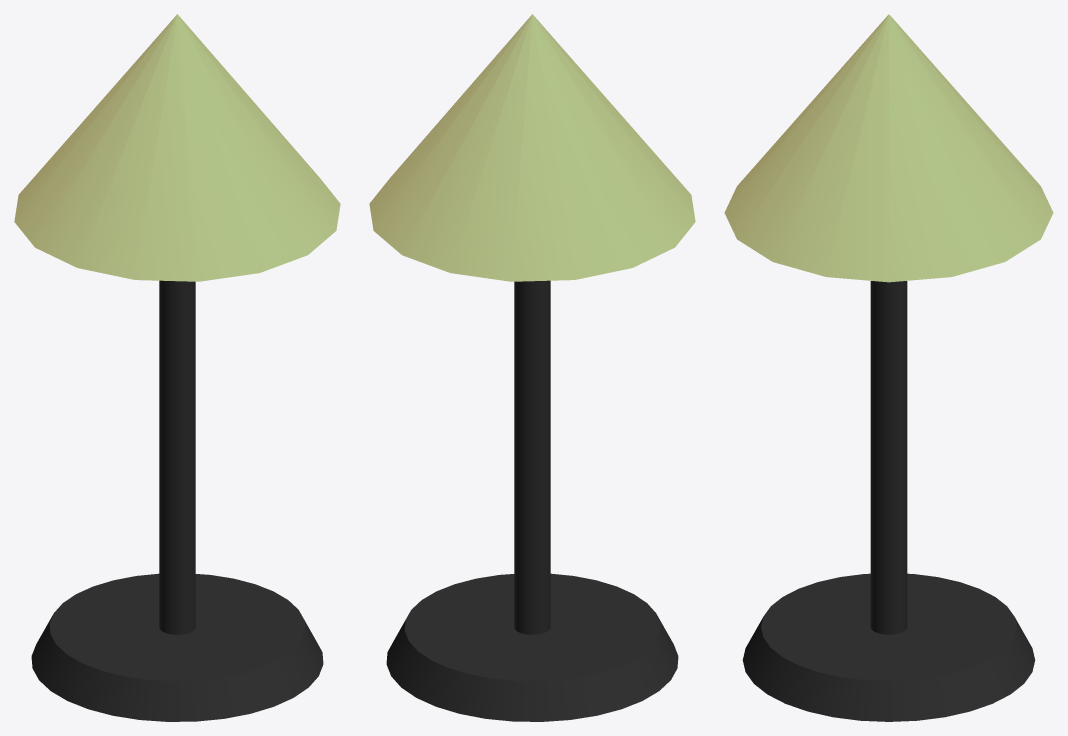
File: desklamp.glb
3 views of the same model, side by side, from view 1: azimuth 30°, elevation 25°; view 2: azimuth 150°, elevation 25°; view 3: azimuth 270°, elevation 25° (orthographic).
Bounding box in the file's own units: 0.18 × 0.39 × 0.18.
